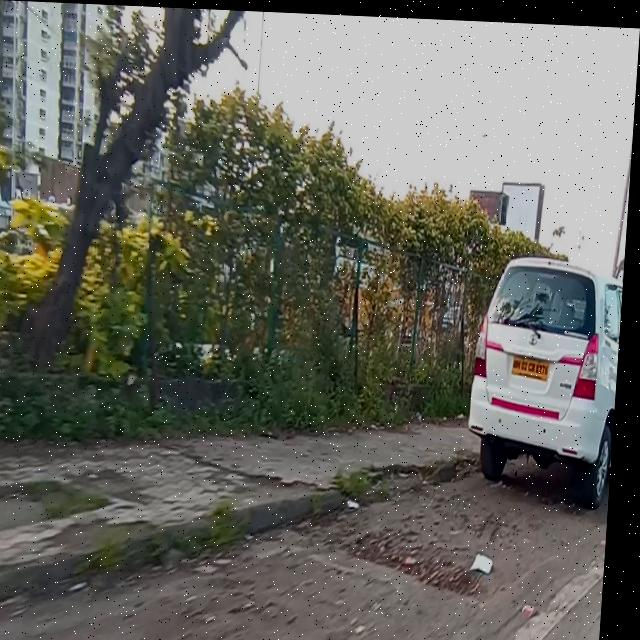plate: (515, 349, 554, 376)
